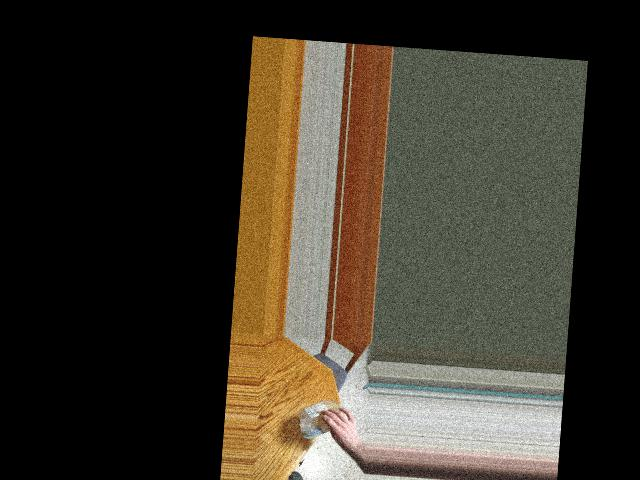cheese: (299, 404, 342, 436)
